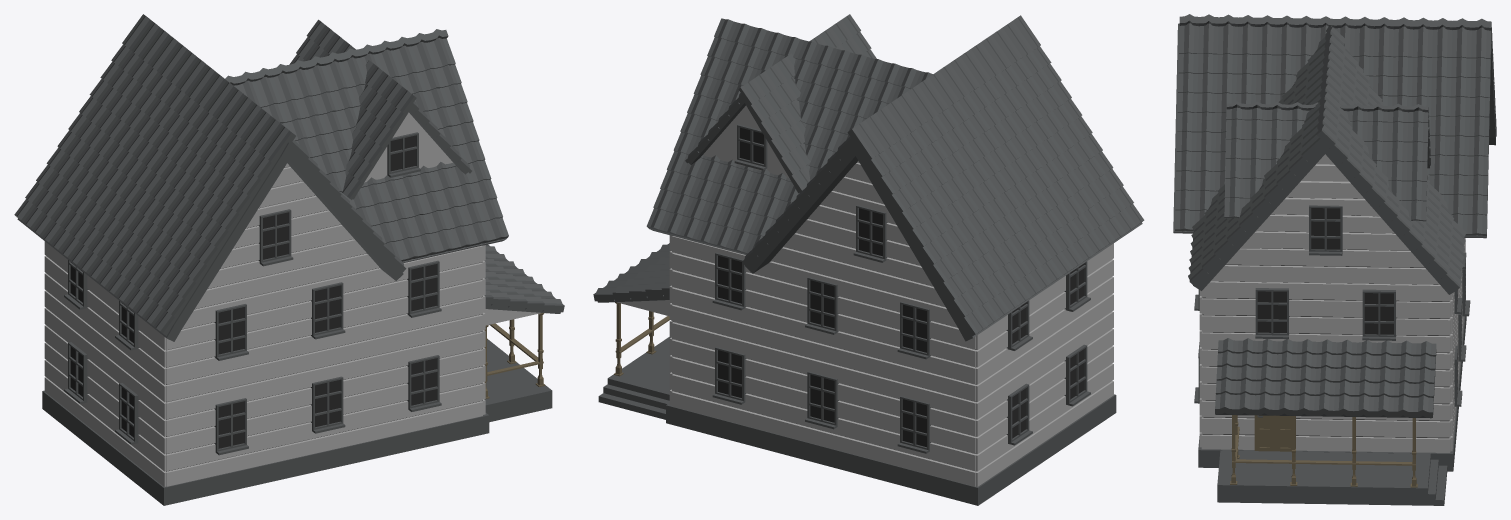
Rendered from house1_lev3.glb.
3 views of the same model, side by side, from view 1: azimuth 30°, elevation 25°; view 2: azimuth 150°, elevation 25°; view 3: azimuth 270°, elevation 25° (orthographic).
Visible parts, largest first — view 1: house1_lev3; view 2: house1_lev3; view 3: house1_lev3.
Part boxes in pixels (x1,y1,x2,y2): house1_lev3: [14, 14, 564, 505]; house1_lev3: [593, 14, 1144, 505]; house1_lev3: [1173, 14, 1496, 505].
Bounding box in the file's own units: 11.1 × 8.96 × 7.42.
